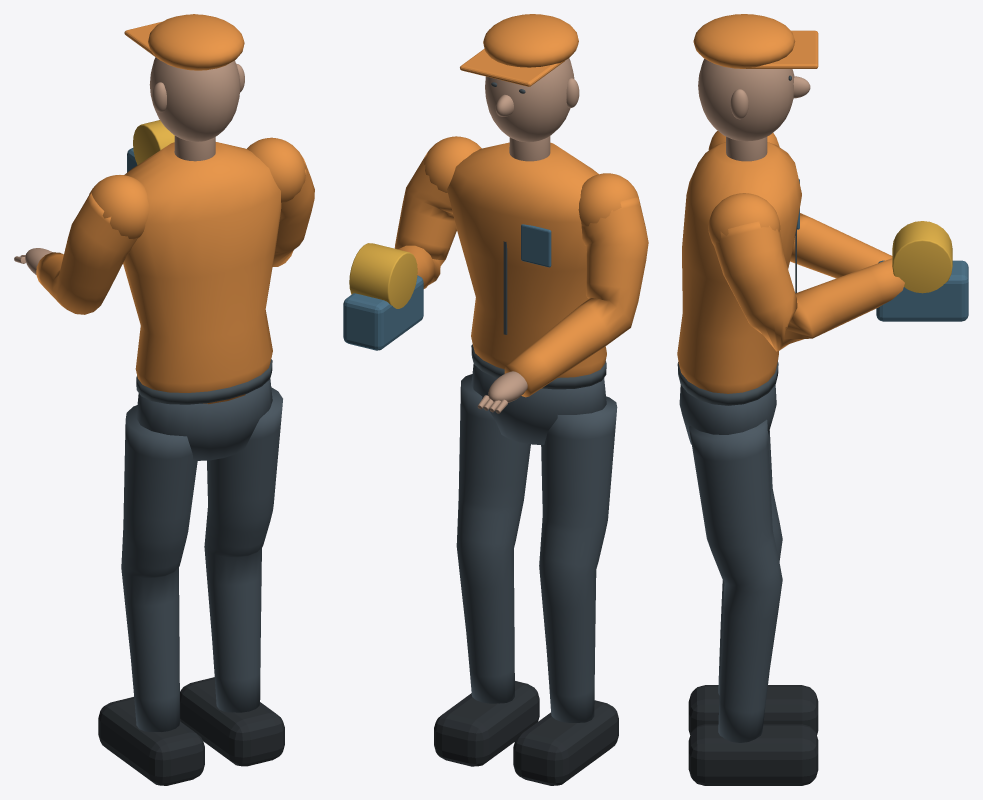
File: packing-worker.glb
The picture shows the model from 3 angles, left to right: view 1: azimuth 30°, elevation 25°; view 2: azimuth 150°, elevation 25°; view 3: azimuth 270°, elevation 25°; orthographic projection.
Parts seen in each view (by area): view 1: Packing | tailored torso, Packing | trouser leg, Packing | trouser leg.001, Packing | work sleeve, Packing | pelvis, Packing | safety boot, Packing | safety boot.001, Packing | head, Packing | work cap, Packing | shoulder, Packing | shoulder.001, Packing | work sleeve.001 (+3 smaller); view 2: Packing | tailored torso, Packing | trouser leg, Packing | trouser leg.001, Packing | work sleeve, Packing | safety boot, Packing | safety boot.001, Packing | work sleeve.001, Packing | pelvis, Packing | head, Packing | work cap, Packing | tape gun, Packing | tape reel (+7 smaller); view 3: Packing | trouser leg.001, Packing | tailored torso, Packing | work sleeve.001, Packing | safety boot.001, Packing | head, Packing | work cap, Packing | tape reel, Packing | work sleeve, Packing | safety boot, Packing | tape gun, Packing | pelvis, Packing | shoulder.001 (+4 smaller).
Part boxes in pixels (x1,y1,x2,y2): Packing | tailored torso: [123, 142, 281, 404]; Packing | trouser leg: [121, 405, 197, 731]; Packing | trouser leg.001: [204, 387, 282, 712]; Packing | work sleeve: [36, 193, 137, 314]; Packing | pelvis: [136, 379, 272, 460]; Packing | safety boot: [98, 697, 204, 785]; Packing | safety boot.001: [180, 677, 284, 766]; Packing | head: [149, 57, 240, 141]; Packing | work cap: [148, 14, 244, 70]; Packing | shoulder: [88, 175, 149, 239]; Packing | shoulder.001: [247, 137, 305, 203]; Packing | work sleeve.001: [272, 156, 314, 266]; Packing | tailored torso: [447, 142, 606, 388]; Packing | trouser leg: [539, 396, 617, 722]; Packing | trouser leg.001: [456, 374, 530, 703]; Packing | work sleeve: [504, 197, 648, 397]; Packing | safety boot: [513, 700, 618, 785]; Packing | safety boot.001: [434, 681, 539, 766]; Packing | work sleeve.001: [394, 149, 456, 288]; Packing | pelvis: [471, 364, 606, 444]; Packing | head: [485, 58, 574, 142]; Packing | work cap: [483, 14, 578, 67]; Packing | tape gun: [343, 275, 423, 350]; Packing | tape reel: [349, 243, 417, 308]; Packing | trouser leg.001: [689, 419, 782, 742]; Packing | tailored torso: [677, 142, 801, 393]; Packing | work sleeve.001: [714, 221, 904, 351]; Packing | safety boot.001: [688, 724, 818, 785]; Packing | head: [698, 58, 794, 141]; Packing | work cap: [693, 14, 795, 68]; Packing | tape reel: [892, 221, 952, 293]; Packing | work sleeve: [790, 213, 892, 278]; Packing | safety boot: [688, 685, 818, 734]; Packing | tape gun: [876, 260, 968, 321]; Packing | pelvis: [679, 385, 776, 444]; Packing | shoulder.001: [708, 193, 780, 246].
Size of the model in its own units: 0.5989 by 1.76 by 0.63.
